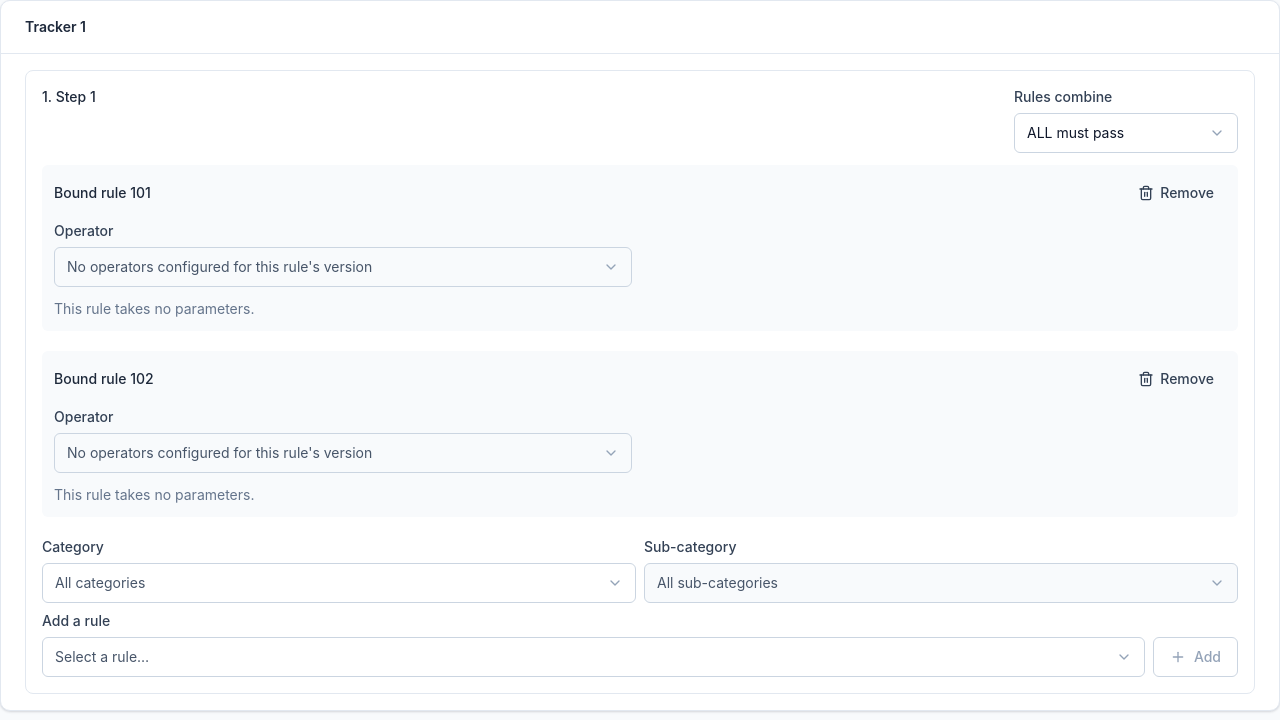
Test: ComponentRulesStep — Add-a-rule category/sub-category filter (T-112) › TC-5: a rule already bound to this component stays excluded regardless of filter
The width and height of the screenshot is (1280, 720).
Click the dropdown named "category" at x=100, y=582, box [42,563,636,603]
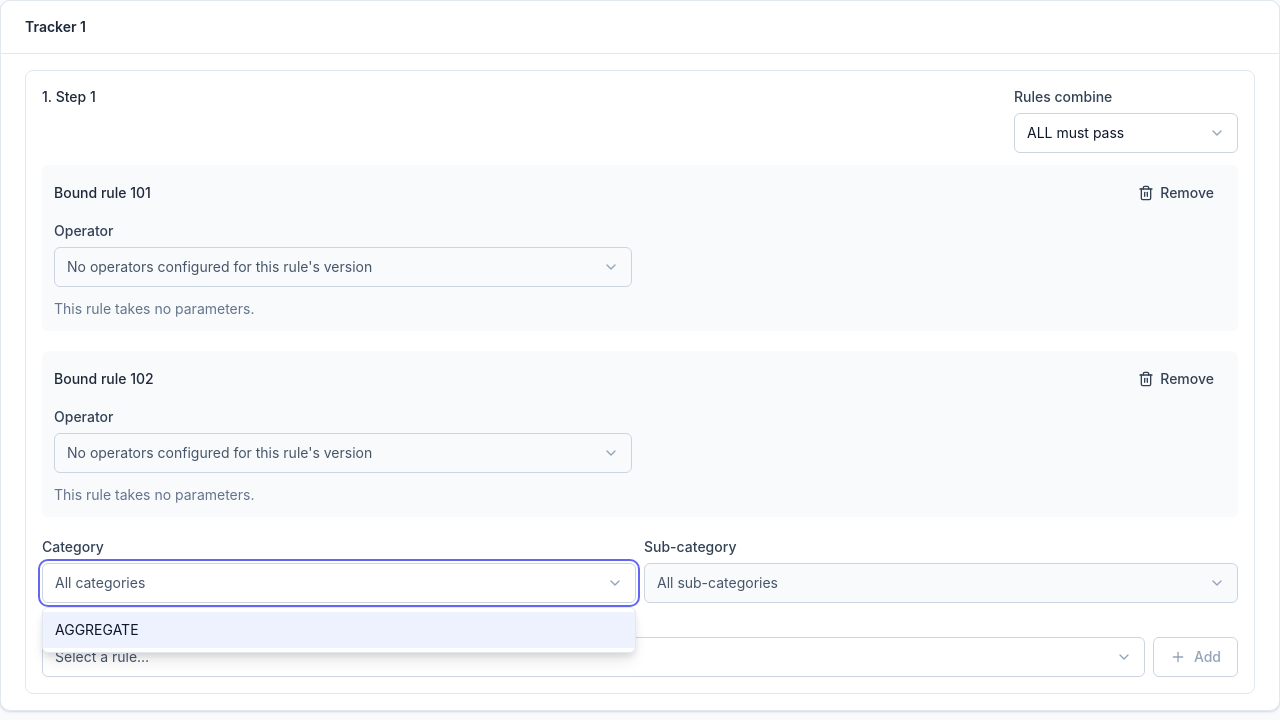
Now the option "AGGREGATE" is shown, box [43,612,635,648]
Press Escape
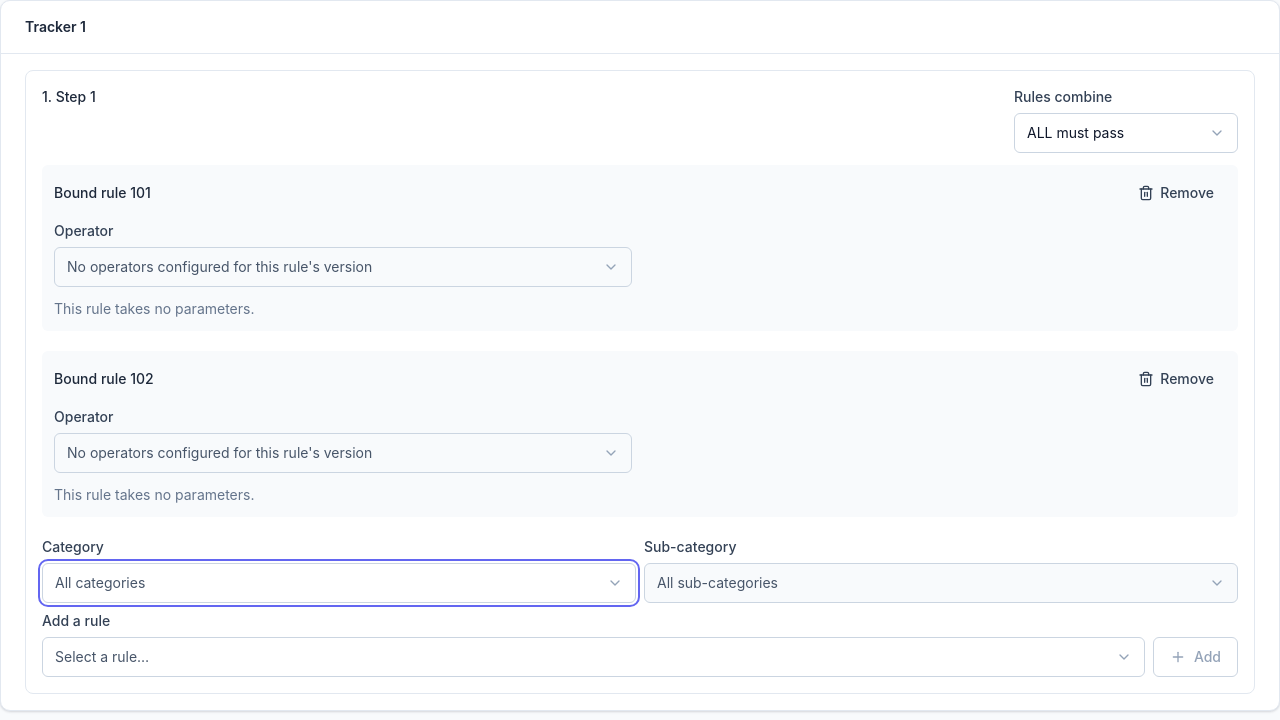
Click the dropdown named "add a rule" at x=102, y=656, box [42,637,1145,677]
(page scrolled)
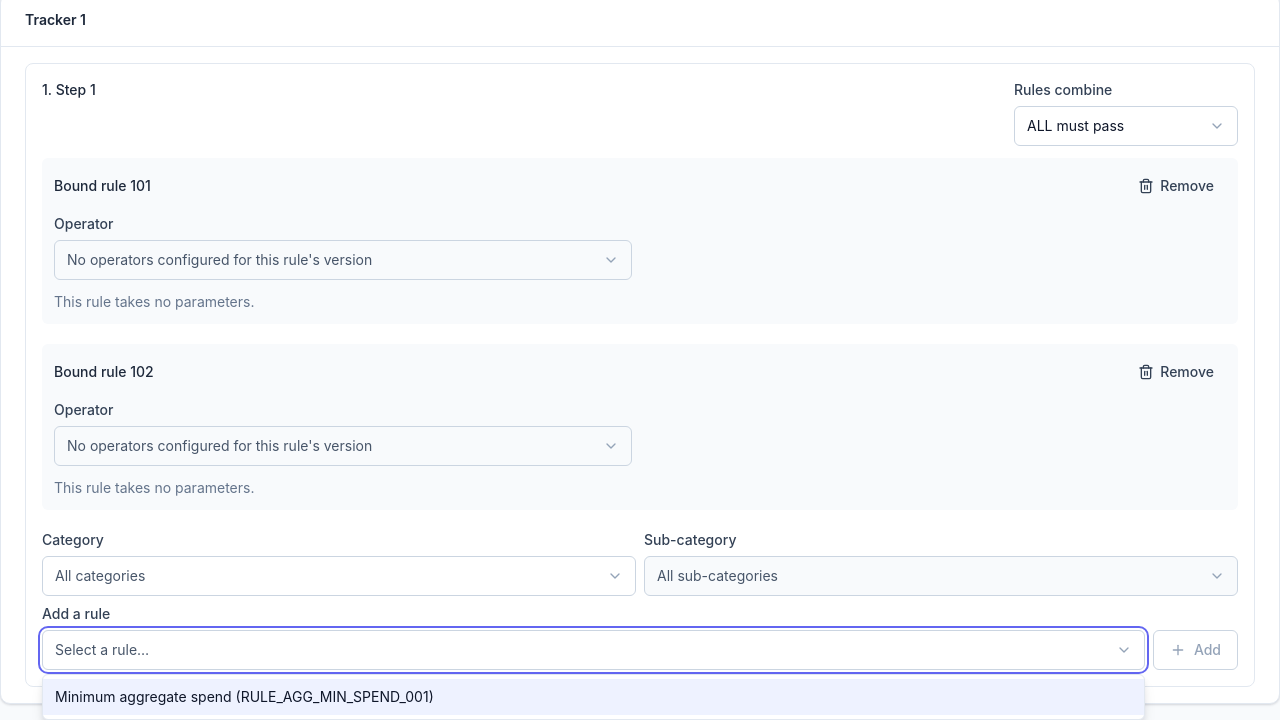
Now the option "Minimum aggregate spend (RULE_AGG_MIN_SPEND_001)" is shown, box [43,679,1144,715]
